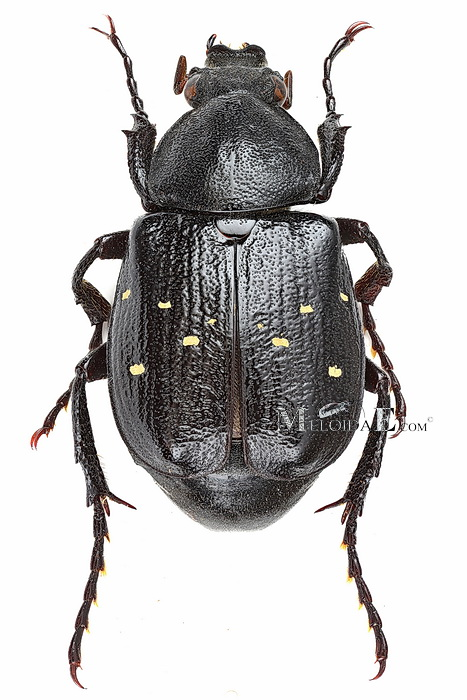Gnorimus_variabilis: (17, 1, 420, 695)
